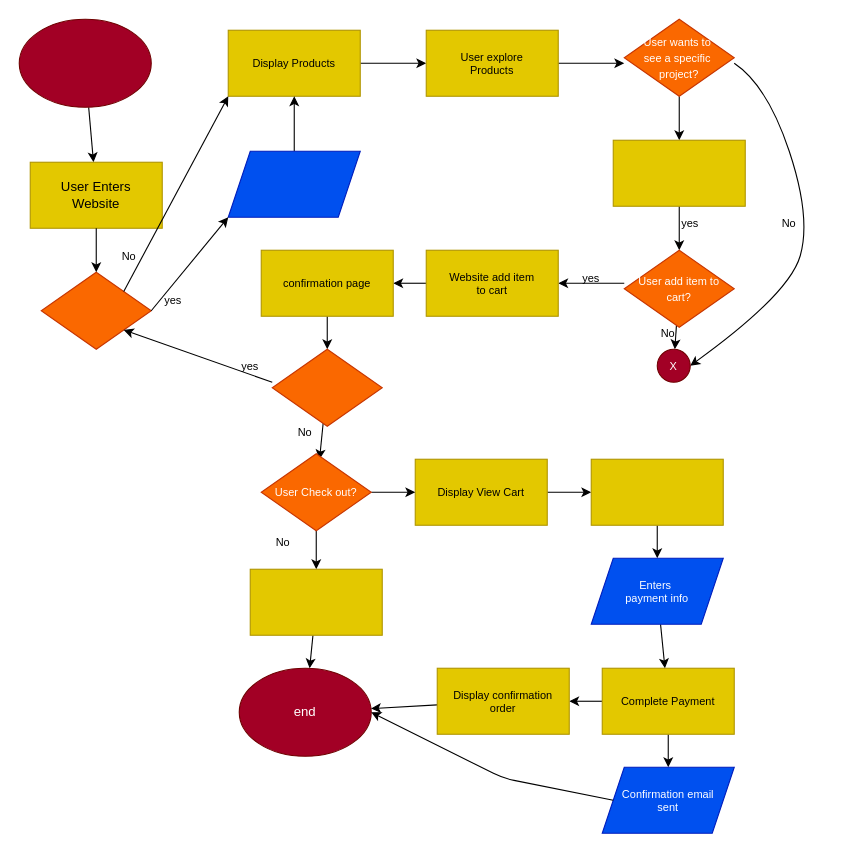
The diagram is 842 pixels wide and 853 high, and some of its shapes have lost their labels. The box of each missing label's shape, as (x1, y1, x2, y2) in pixels:
Display Payment Screen: (590, 458, 723, 525)
Display product's webpage: (612, 139, 745, 206)
Search for product?: (40, 271, 151, 349)
Start: (18, 18, 151, 107)
user Continue shopping?: (271, 348, 382, 426)
User input of their search: (227, 150, 360, 217)
User leaves website: (249, 568, 382, 635)
